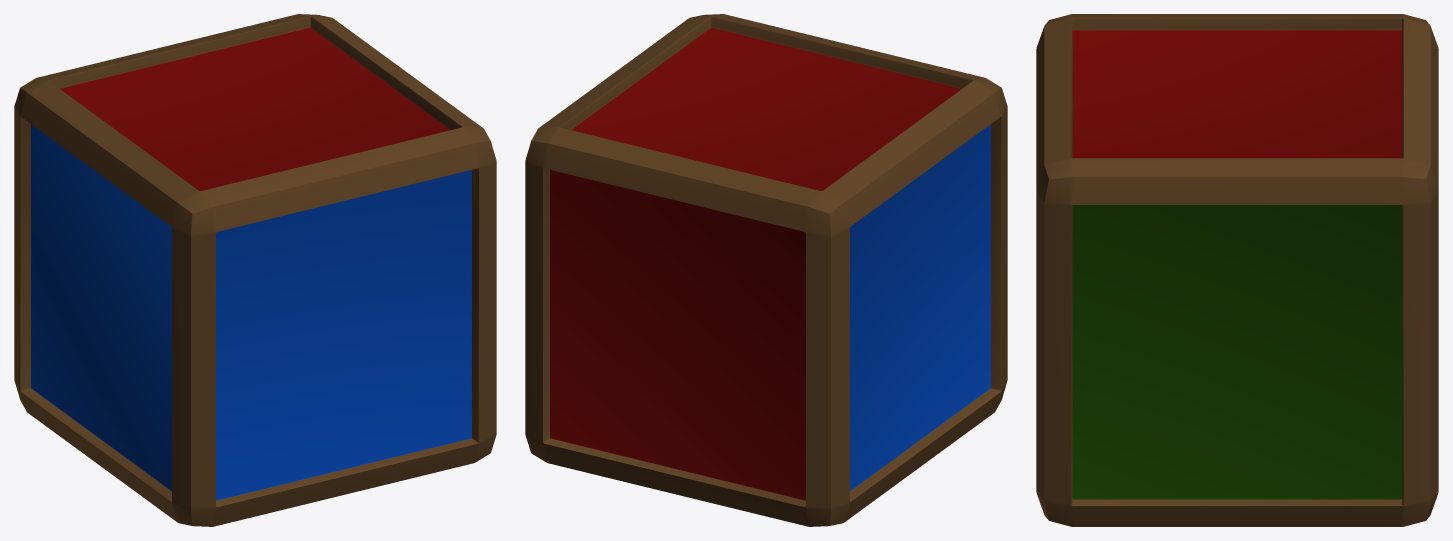
The model's file is PlayerDice.FBX.
3 views of the same model, side by side, from view 1: azimuth 30°, elevation 25°; view 2: azimuth 150°, elevation 25°; view 3: azimuth 270°, elevation 25° (orthographic). The views are drawn at different scales.
Parts seen in each view (by area): view 1: M_PlayerDice; view 2: M_PlayerDice; view 3: M_PlayerDice.
Boxes of the visible parts, x1,y1,x2,y2 form: M_PlayerDice: (14,14,496,526); M_PlayerDice: (525,14,1007,526); M_PlayerDice: (1036,14,1438,526).
Bounding box in the file's own units: 89.97 × 89.97 × 89.97.
